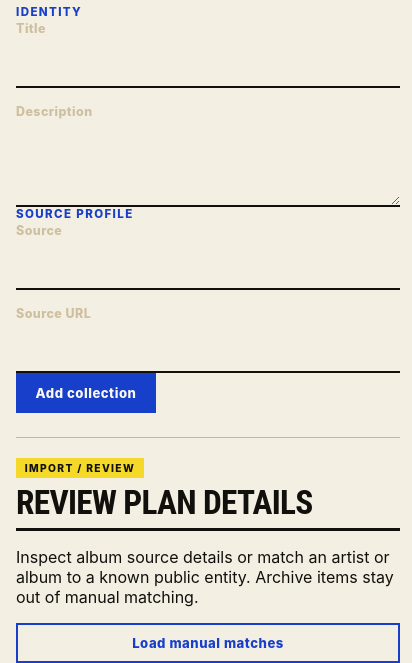
it: ArchivePage › lets admins match artist and album review items without changing the URL import flow
(page scrolled)
Click the button "Load manual matches": (208, 643) [16, 623, 400, 662]
(page scrolled)
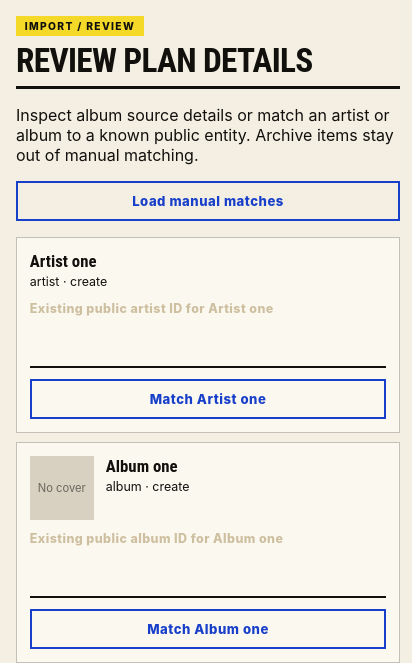
Now the text "Artist one" is shown, box [30, 251, 96, 271]
Now the text "Album one" is shown, box [106, 456, 178, 476]
In the field labelled "Existing public artist ID for Artist one": (208, 346) [30, 324, 386, 368], type "artist-existing-1"
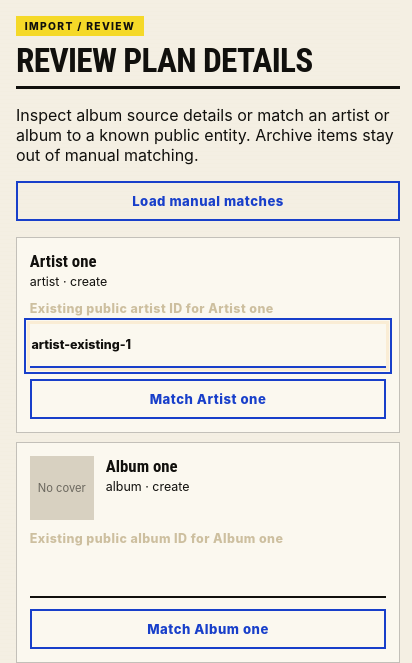
Click the button "Match Artist one": (208, 399) [30, 379, 386, 419]
(page scrolled)
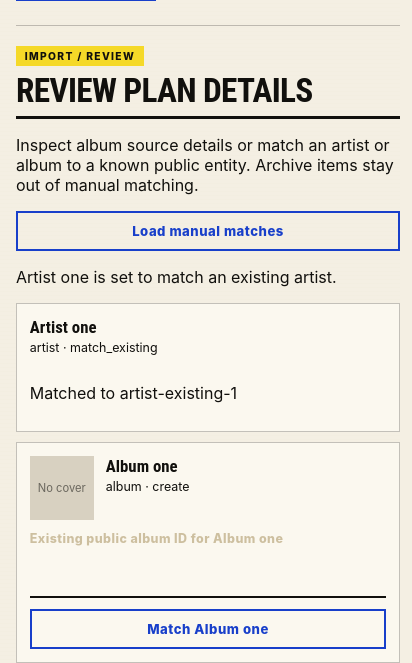
Now the text "Artist one is set to match an existing artist." is shown, box [16, 267, 337, 287]
